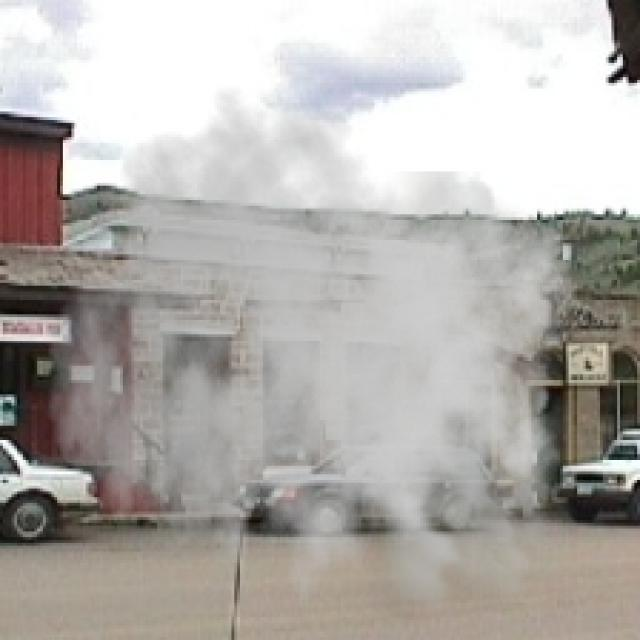smoke: (46, 86, 597, 637)
